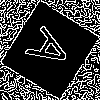A: (24, 25, 82, 79)
